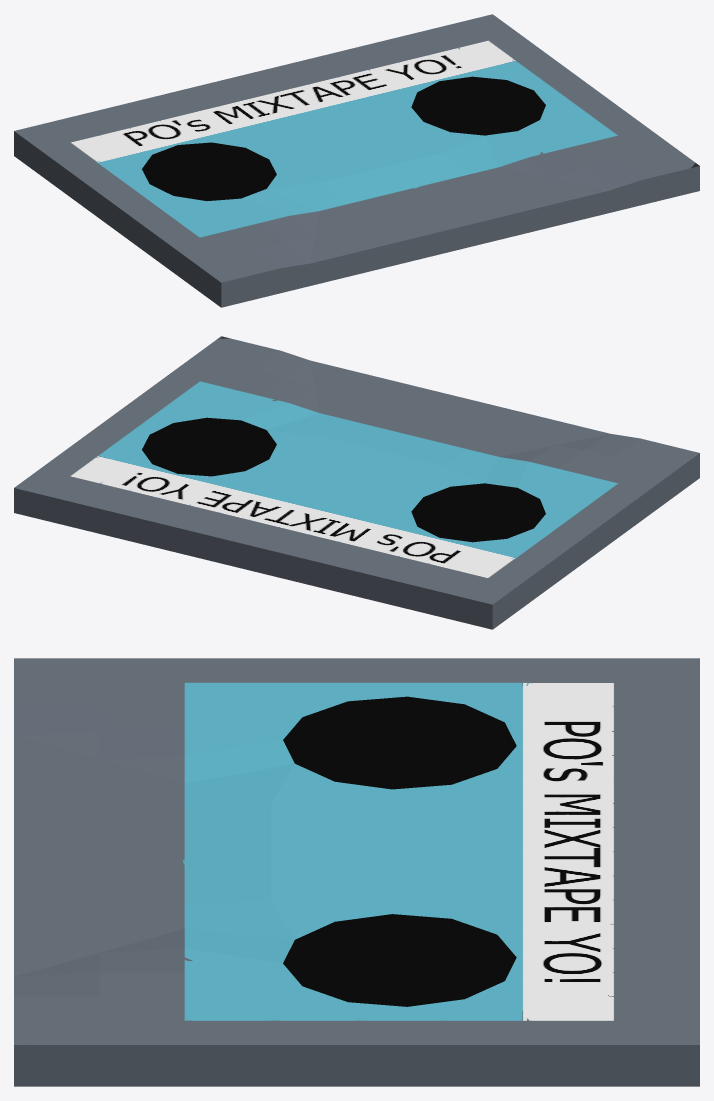
The model's file is mixtape.fbx.
3 views of the same model, one above another, from view 1: azimuth 30°, elevation 25°; view 2: azimuth 150°, elevation 25°; view 3: azimuth 270°, elevation 25° (orthographic). The views are drawn at different scales.
Parts seen in each view (by area): view 1: NewMixtape; view 2: NewMixtape; view 3: NewMixtape.
Boxes of the visible parts, bbox=[...] form: NewMixtape: bbox=[14, 14, 699, 307]; NewMixtape: bbox=[14, 336, 699, 629]; NewMixtape: bbox=[14, 658, 699, 1086].
Bounding box in the file's own units: 400 × 20 × 300.
4 materials, 2 textured.
